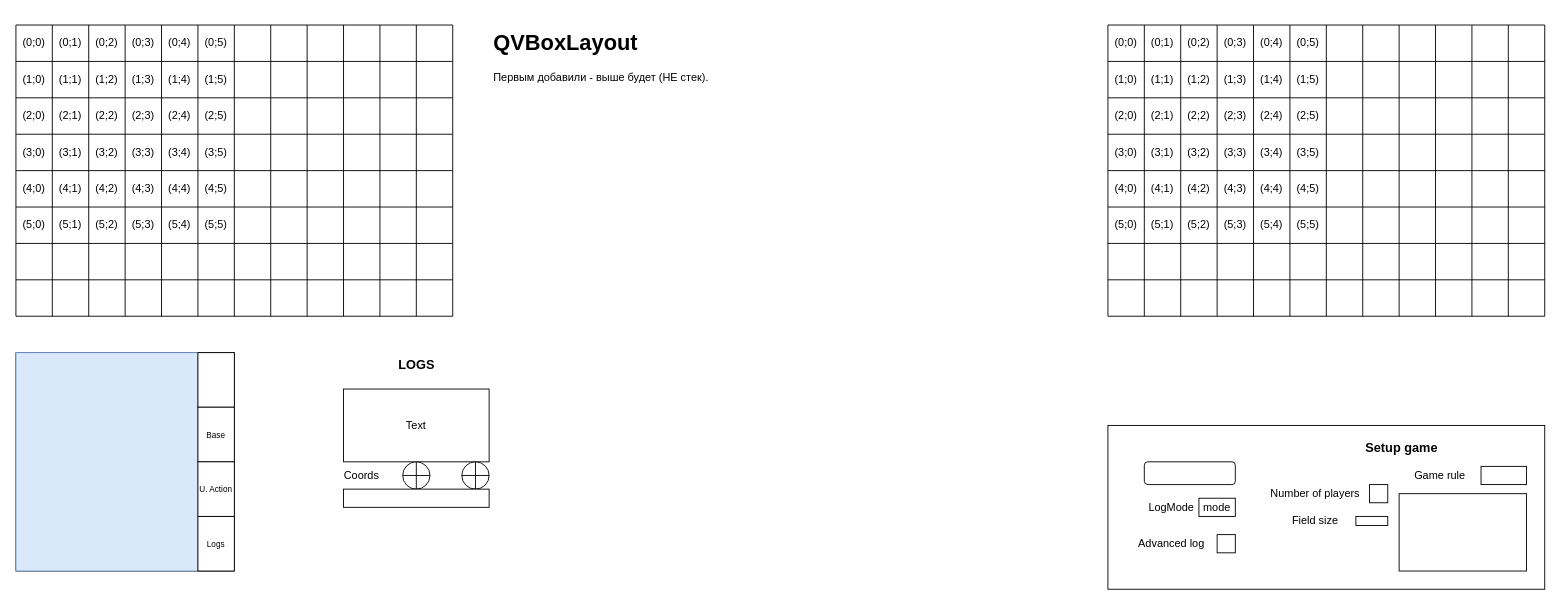
This 1562x605 diagram has some shape labels left out. The box of each missing label's shape, as (x1, y1, x2, y2) in pixels:
Button: (343, 488, 489, 507)
Start new game: (1143, 461, 1235, 485)
Unit: (197, 352, 234, 407)
